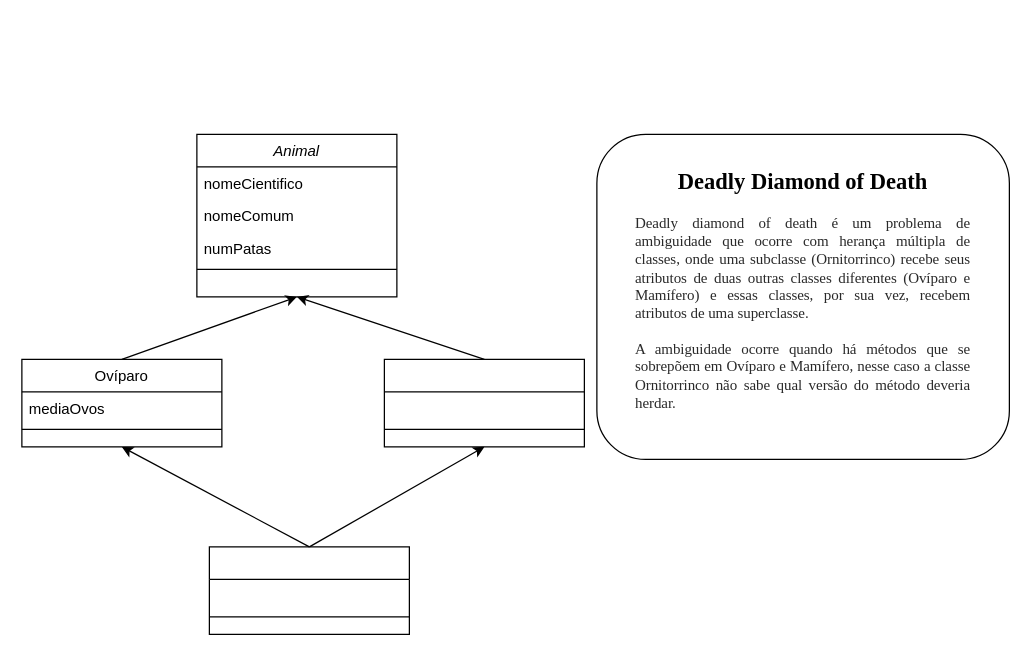
Image size: 1031x656. Some labels were removed from this diagram. The centre of each missing label's shape, as x and y in pixels:
"Mamífero" goes at pixel 483 402.
"Ornitorrinco" goes at pixel 308 590.
